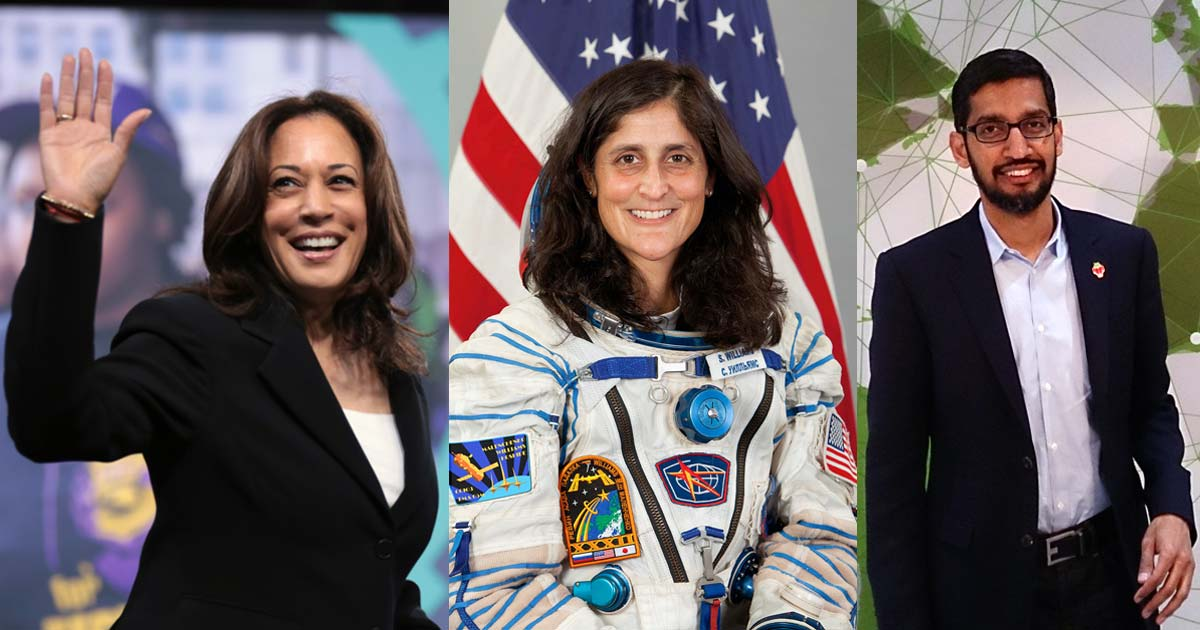men: (921, 33, 1092, 253)
women: (529, 50, 783, 353), (196, 83, 415, 354)
